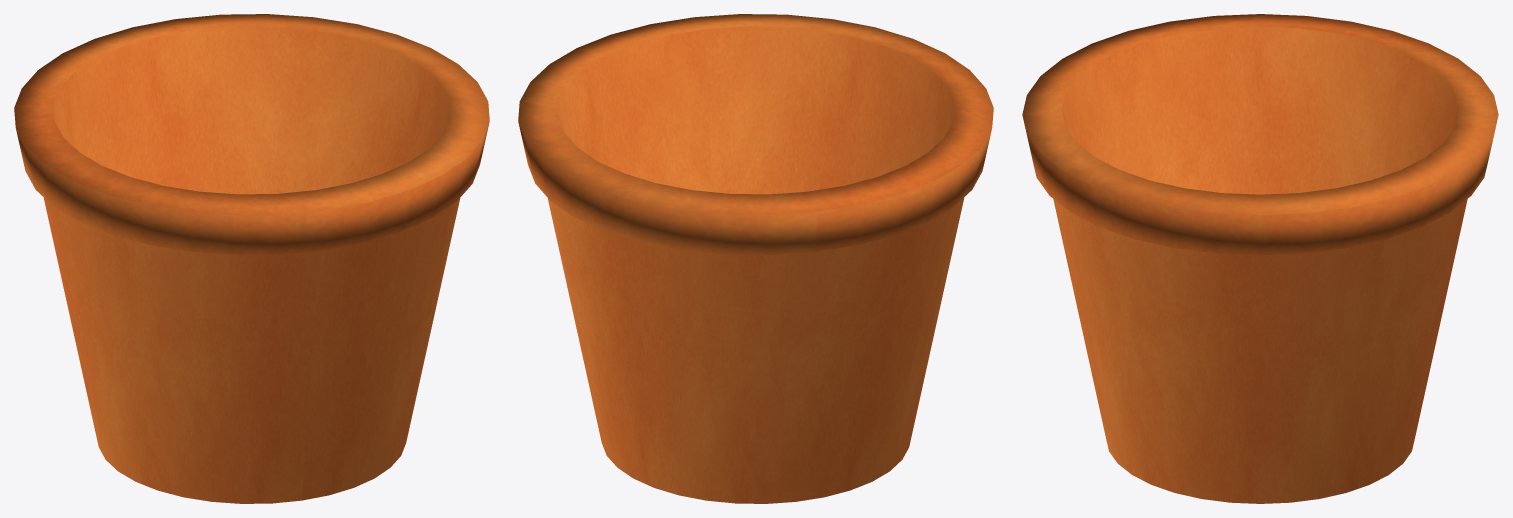
File: plantpot1.fbx
3 views of the same model, side by side, from view 1: azimuth 30°, elevation 25°; view 2: azimuth 150°, elevation 25°; view 3: azimuth 270°, elevation 25° (orthographic).
Visible parts, largest first — view 1: Cylinder; view 2: Cylinder; view 3: Cylinder.
Boxes of the visible parts, x1,y1,x2,y2 form: Cylinder: (14,14,489,503); Cylinder: (518,14,993,503); Cylinder: (1022,14,1498,503).
Size of the model in its own units: 1.17 by 0.891 by 1.17.
